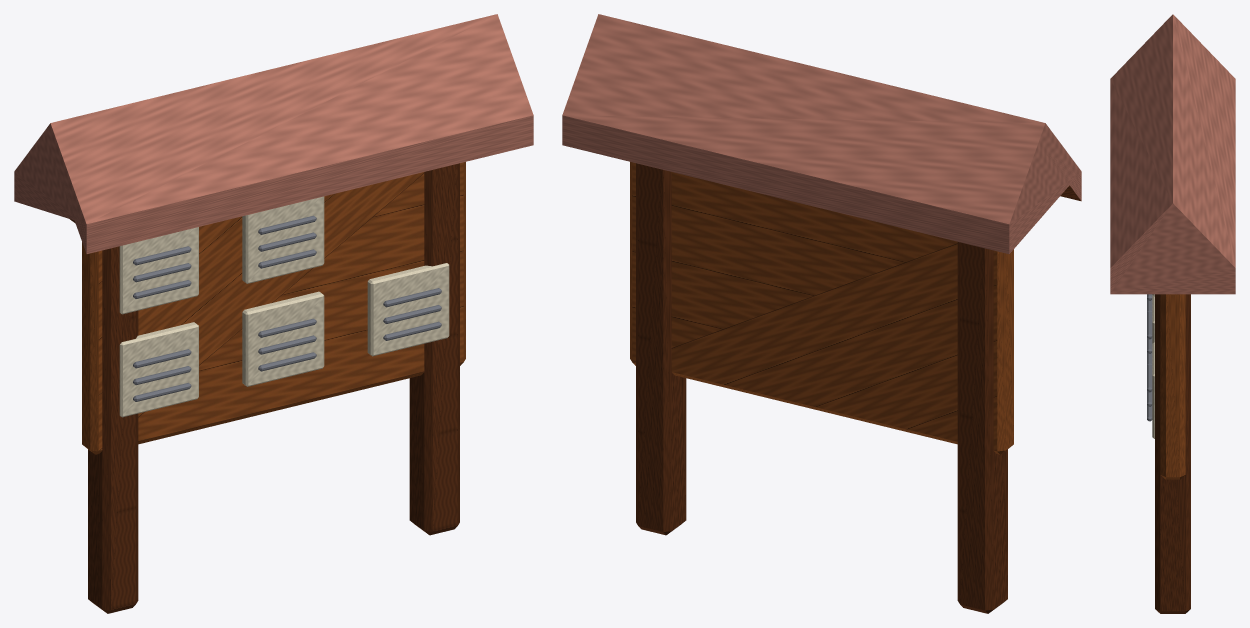
Rendered from fantasy-mmo-city-and-townsfolk-notice-board-fb05c69d__32771.glb.
The picture shows the model from 3 angles, left to right: view 1: azimuth 30°, elevation 25°; view 2: azimuth 150°, elevation 25°; view 3: azimuth 270°, elevation 25°; orthographic projection. The views are drawn at different scales.
Parts seen in each view (by area): view 1: notice-board; view 2: notice-board; view 3: notice-board.
Part boxes in pixels (x1,y1,x2,y2): notice-board: (14, 14, 533, 613); notice-board: (562, 14, 1081, 613); notice-board: (1110, 14, 1235, 613).
Bounding box in the file's own units: 2.5 × 2.66 × 0.6999.
5 materials, 4 textured.
